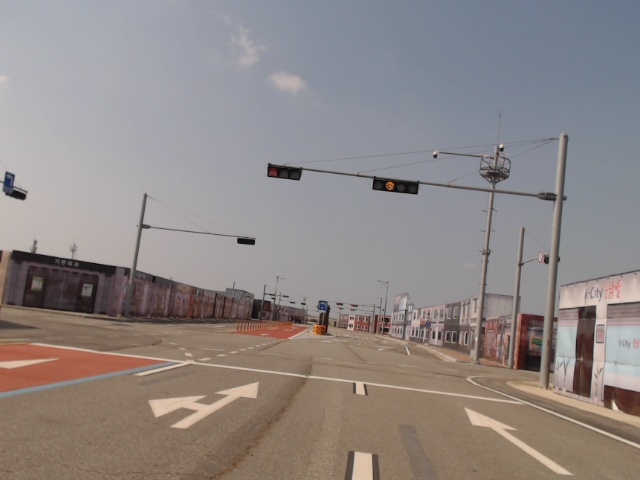orange_4: (373, 176, 420, 196)
